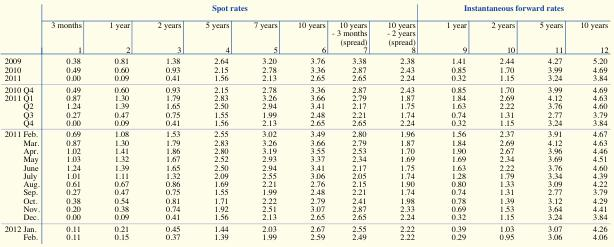table: (3, 4, 607, 241)
table column: (376, 4, 430, 241), (44, 4, 94, 241), (94, 4, 143, 241), (143, 4, 192, 241), (192, 4, 240, 241), (328, 4, 376, 241), (430, 4, 478, 241), (478, 4, 526, 241), (240, 4, 287, 241), (526, 4, 570, 241), (287, 4, 328, 241), (570, 4, 607, 241), (21, 4, 44, 241), (3, 4, 21, 241)
table column header: (3, 4, 607, 93)
table row: (3, 16, 607, 93), (3, 4, 607, 16), (3, 118, 607, 128), (3, 128, 607, 138), (3, 212, 607, 222), (3, 222, 607, 232), (3, 93, 607, 102), (3, 146, 607, 155), (3, 179, 607, 188), (3, 232, 607, 241), (3, 102, 607, 110), (3, 110, 607, 118), (3, 138, 607, 146), (3, 155, 607, 163), (3, 163, 607, 171), (3, 171, 607, 179), (3, 188, 607, 196), (3, 196, 607, 204), (3, 204, 607, 212)
table spanning cell: (44, 4, 430, 16), (430, 4, 607, 16), (21, 4, 44, 93), (3, 128, 21, 222), (3, 4, 21, 93), (3, 93, 21, 128), (3, 222, 21, 241)
